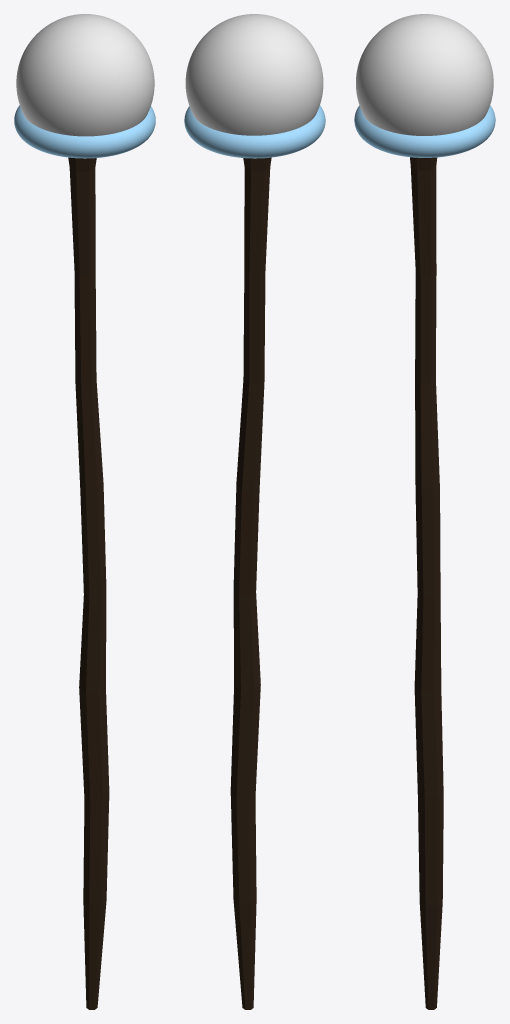
File: Enhanced Staff.fbx
The picture shows the model from 3 angles, left to right: view 1: azimuth 30°, elevation 25°; view 2: azimuth 210°, elevation 25°; view 3: azimuth 330°, elevation 25°; orthographic projection.
Visible parts, largest first — view 1: Staff, Sphere, Torus; view 2: Staff, Sphere, Torus; view 3: Staff, Sphere, Torus.
Part boxes in pixels (x1,y1,x2,y2): Staff: (68, 157, 109, 1009); Sphere: (16, 14, 154, 136); Torus: (14, 105, 155, 158); Staff: (230, 157, 271, 1009); Sphere: (185, 14, 323, 135); Torus: (184, 105, 325, 158); Staff: (410, 157, 443, 1009); Sphere: (356, 14, 493, 135); Torus: (354, 105, 495, 157).
Size of the model in its own units: 25.21 by 194 by 25.21.
